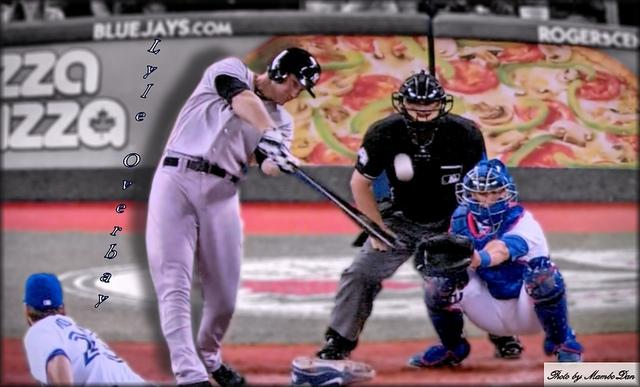mushroom: (372, 38, 414, 68), (549, 120, 594, 146), (456, 46, 504, 68), (514, 79, 554, 104), (474, 102, 514, 125), (290, 128, 318, 158), (494, 130, 530, 152), (324, 74, 359, 96), (308, 46, 350, 64), (538, 44, 573, 63), (283, 99, 312, 120), (608, 142, 637, 162), (322, 104, 349, 122), (558, 68, 570, 82)
